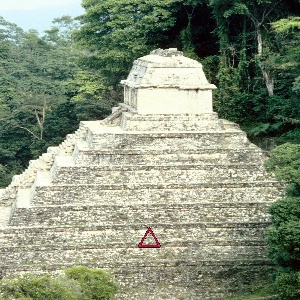triangle: (134, 225, 165, 249)
